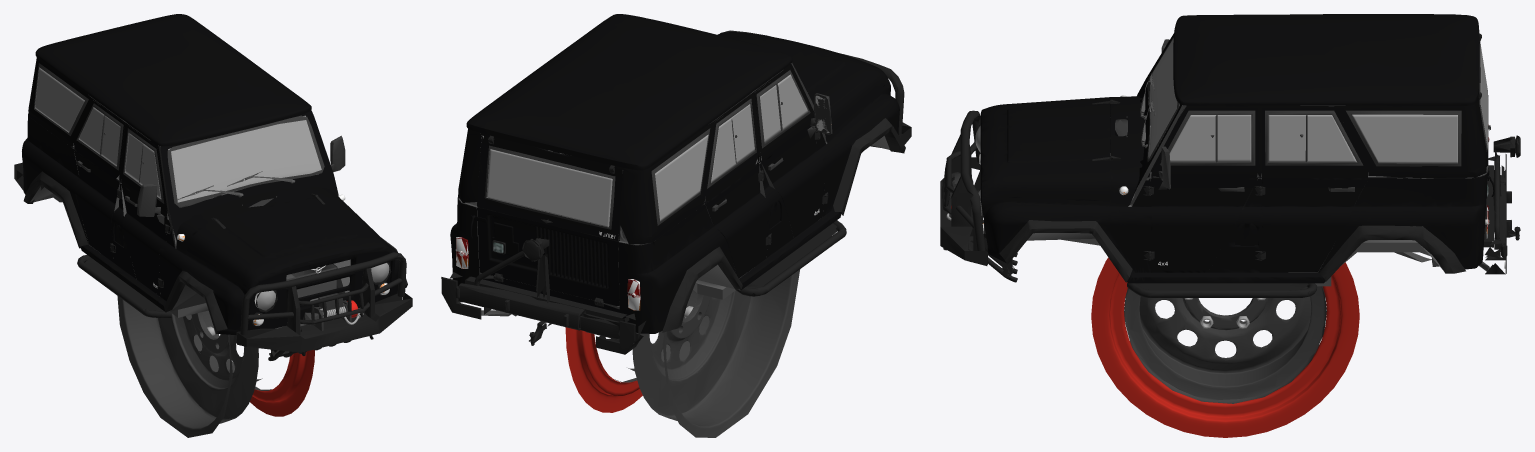
The model's file is ranger.glb.
3 renders of one model, left to right at view 1: azimuth 30°, elevation 25°; view 2: azimuth 150°, elevation 25°; view 3: azimuth 270°, elevation 25°, orthographic. The views are drawn at different scales.
Parts seen in each view (by area): view 1: paint:5, trim:7, rim:2, screen:14, trim:5, trim:8, glass:14, trim:11, rim:3; view 2: paint:5, rim:2, trim:7, glass:14, trim:5, trim:8, rim:3, trim:11, tail:6, trim:6; view 3: paint:5, trim:7, rim:2, rim:3, glass:14, trim:5, trim:8, trim:11, screen:14.
Part boxes in pixels (left/top/right/bottom): paint:5: left=22, top=14, right=399, bottom=335; trim:7: left=14, top=162, right=412, bottom=360; rim:2: left=117, top=296, right=271, bottom=437; screen:14: left=168, top=115, right=389, bottom=310; trim:5: left=28, top=57, right=337, bottom=240; trim:8: left=34, top=63, right=351, bottom=330; glass:14: left=35, top=67, right=161, bottom=199; trim:11: left=30, top=100, right=360, bottom=328; rim:3: left=250, top=349, right=314, bottom=416; paint:5: left=450, top=14, right=899, bottom=333; rim:2: left=614, top=269, right=799, bottom=437; trim:7: left=441, top=30, right=911, bottom=354; glass:14: left=480, top=74, right=808, bottom=227; trim:5: left=458, top=64, right=814, bottom=245; trim:8: left=484, top=63, right=832, bottom=240; rim:3: left=565, top=327, right=642, bottom=412; trim:11: left=458, top=116, right=889, bottom=316; tail:6: left=456, top=237, right=640, bottom=310; trim:6: left=456, top=237, right=640, bottom=310; paint:5: left=980, top=14, right=1494, bottom=283; trim:7: left=940, top=33, right=1520, bottom=297; rim:2: left=1124, top=286, right=1326, bottom=403; rim:3: left=1091, top=257, right=1359, bottom=437; glass:14: left=1169, top=46, right=1487, bottom=163; trim:5: left=1133, top=33, right=1488, bottom=195; trim:8: left=949, top=37, right=1490, bottom=217; trim:11: left=1027, top=73, right=1489, bottom=286; screen:14: left=975, top=38, right=1180, bottom=201.
Size of the model in its own units: 2.08 by 2.96 by 4.23.
Materials: 19 (1 with a texture image).
